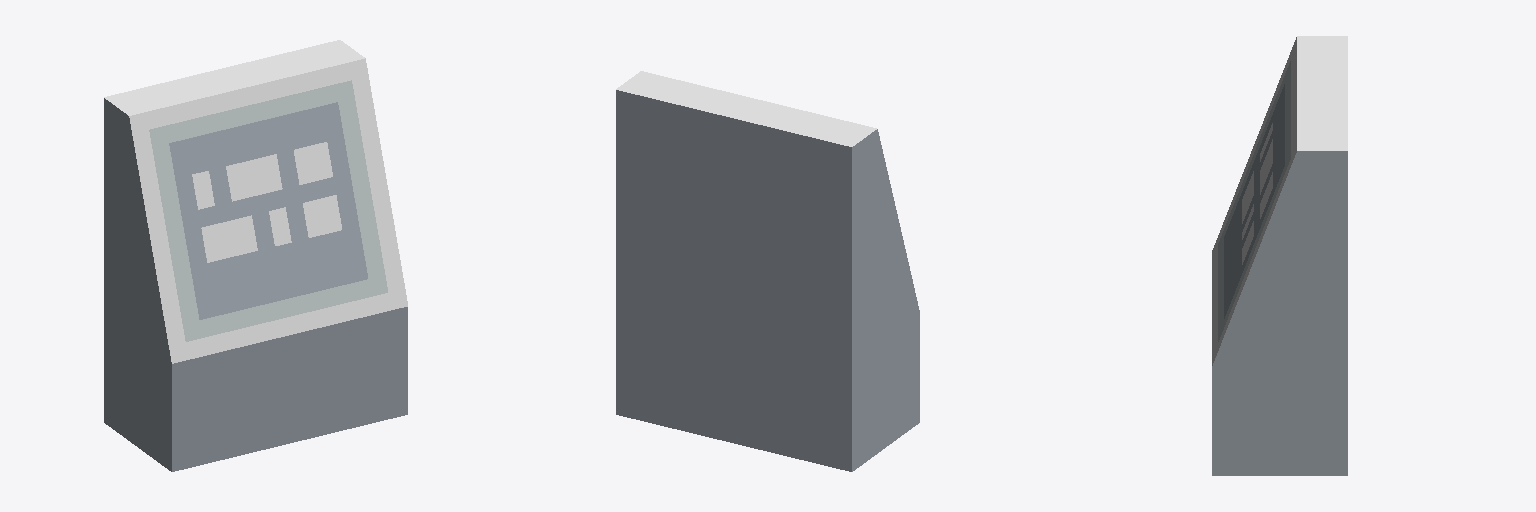
The picture shows the model from 3 angles: view 1: azimuth 30°, elevation 25°; view 2: azimuth 150°, elevation 25°; view 3: azimuth 270°, elevation 25°; orthographic projection.
Visible parts, largest first — view 1: polygon0.003; view 2: polygon0.003; view 3: polygon0.003.
Part boxes in pixels (bbox=[...]): polygon0.003: bbox=[104, 40, 407, 471]; polygon0.003: bbox=[616, 71, 919, 471]; polygon0.003: bbox=[1212, 36, 1347, 475].
Size of the model in its own units: 1 by 1.31 by 0.5.
1 materials, 1 textured.